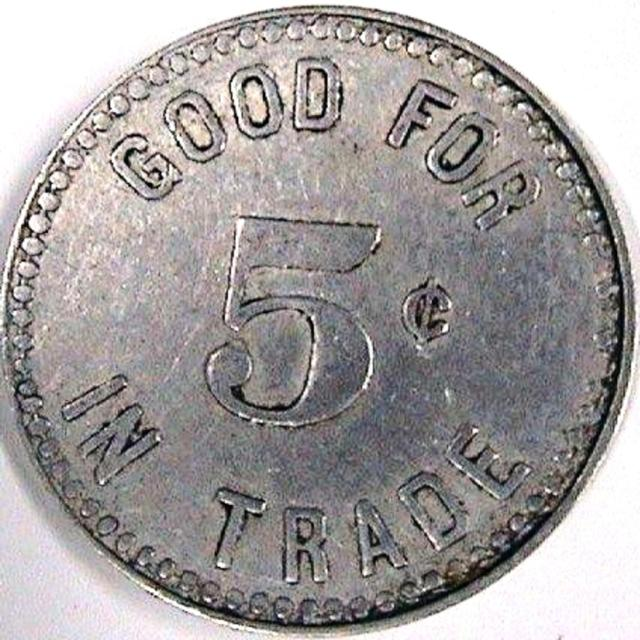Coin: (0, 4, 638, 637)
